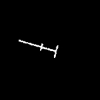double_crochet: (19, 40, 57, 57)
